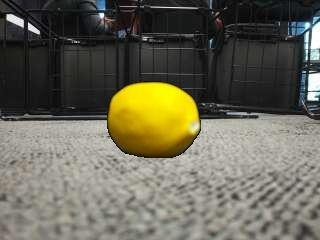lemon: (109, 81, 201, 157)
